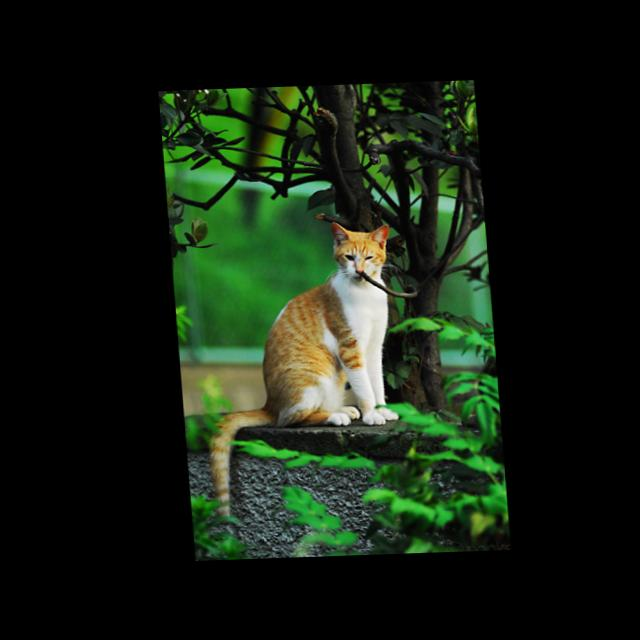animals: (329, 220, 387, 274)
